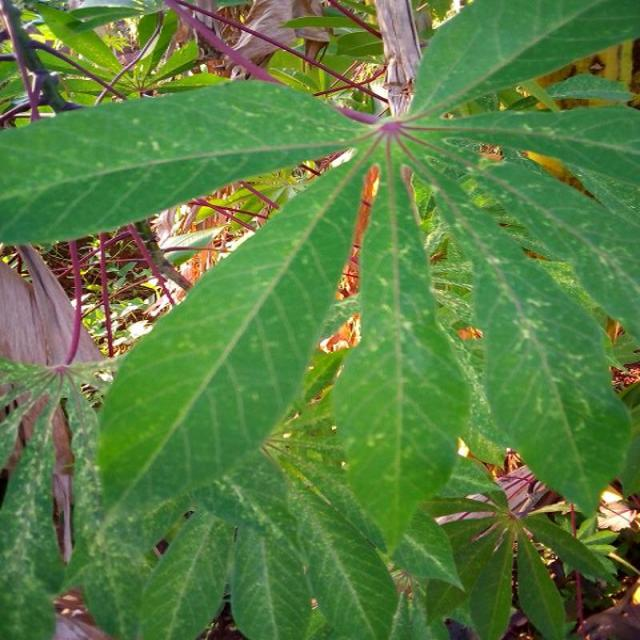cassava leaf: (2, 1, 640, 636), (83, 144, 383, 634), (1, 76, 380, 246), (331, 138, 473, 559)
